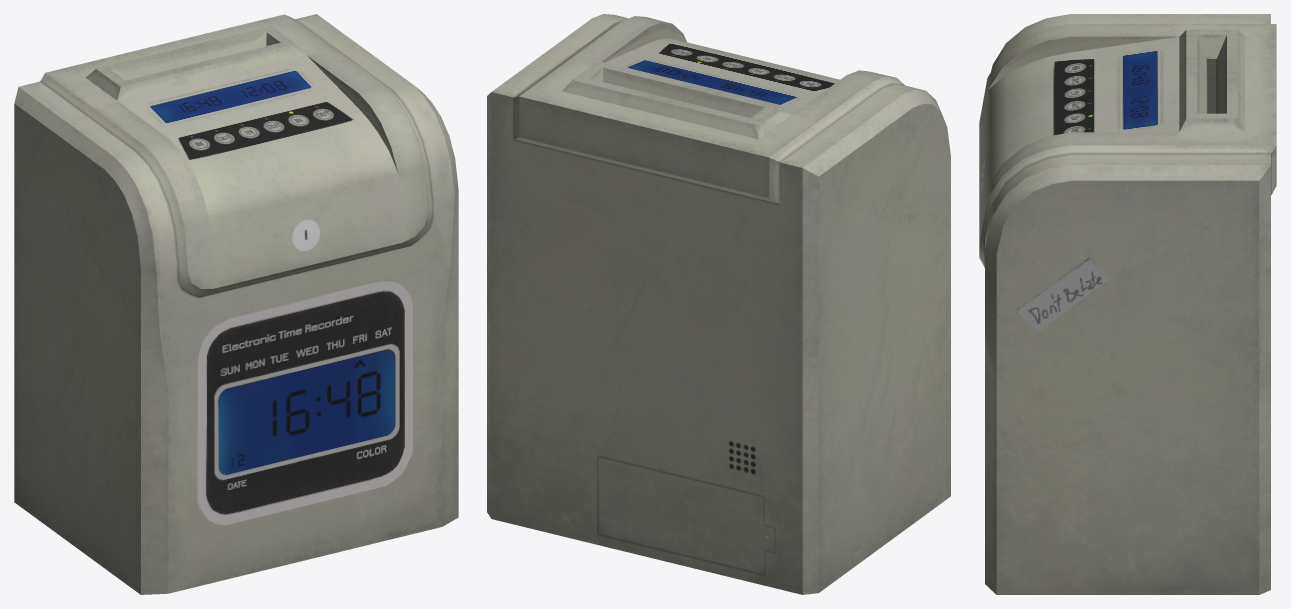
File: PunchCardMachine_01a_snaps019.fbx
3 views of the same model, side by side, from view 1: azimuth 30°, elevation 25°; view 2: azimuth 150°, elevation 25°; view 3: azimuth 270°, elevation 25° (orthographic). The views are drawn at different scales.
Visible parts, largest first — view 1: PunchCardMachine_01a_snaps019_LOD0; view 2: PunchCardMachine_01a_snaps019_LOD0; view 3: PunchCardMachine_01a_snaps019_LOD0.
Part boxes in pixels (box(x1,y1,x2,y2)): PunchCardMachine_01a_snaps019_LOD0: box(14, 14, 458, 594); PunchCardMachine_01a_snaps019_LOD0: box(487, 14, 950, 594); PunchCardMachine_01a_snaps019_LOD0: box(979, 14, 1276, 594).
Size of what is drawn, in the model's own units: 19.3 by 24.6 by 15.07.
